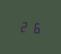six: (30, 20, 40, 34)
two: (19, 19, 29, 33)
